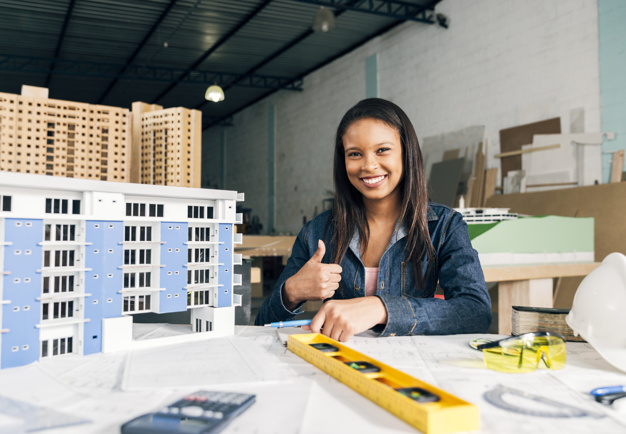thumbsup: (312, 238, 343, 298)
